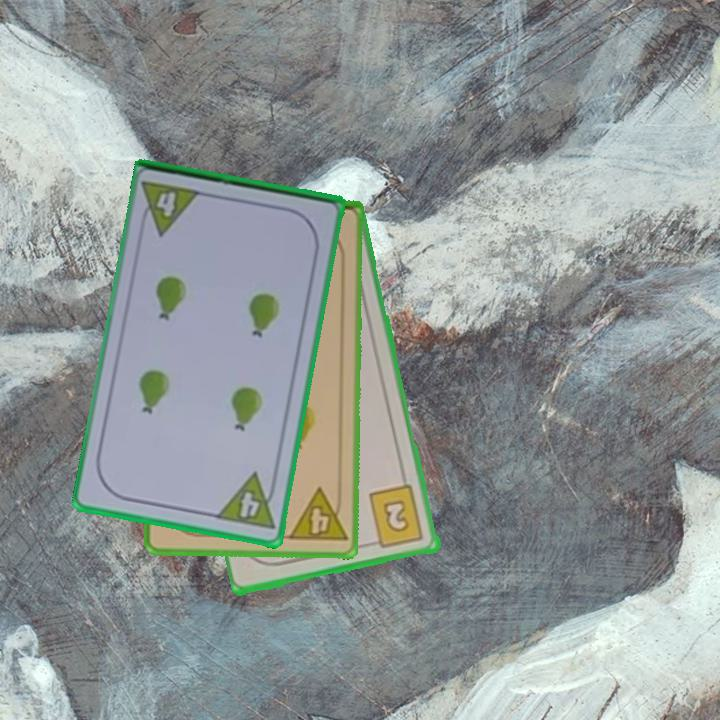2b: (366, 482, 427, 552)
4p: (212, 469, 281, 533), (136, 177, 205, 238), (285, 485, 350, 545)
